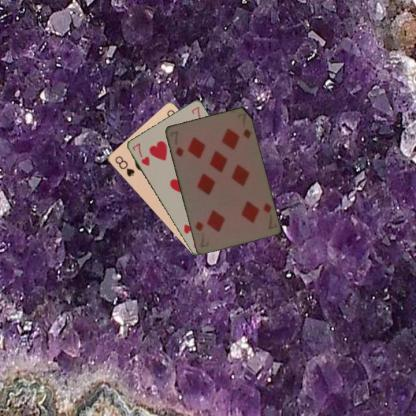7d: (167, 128, 185, 158), (260, 200, 278, 230)
7h: (129, 140, 151, 167)
8s: (112, 153, 136, 178)
